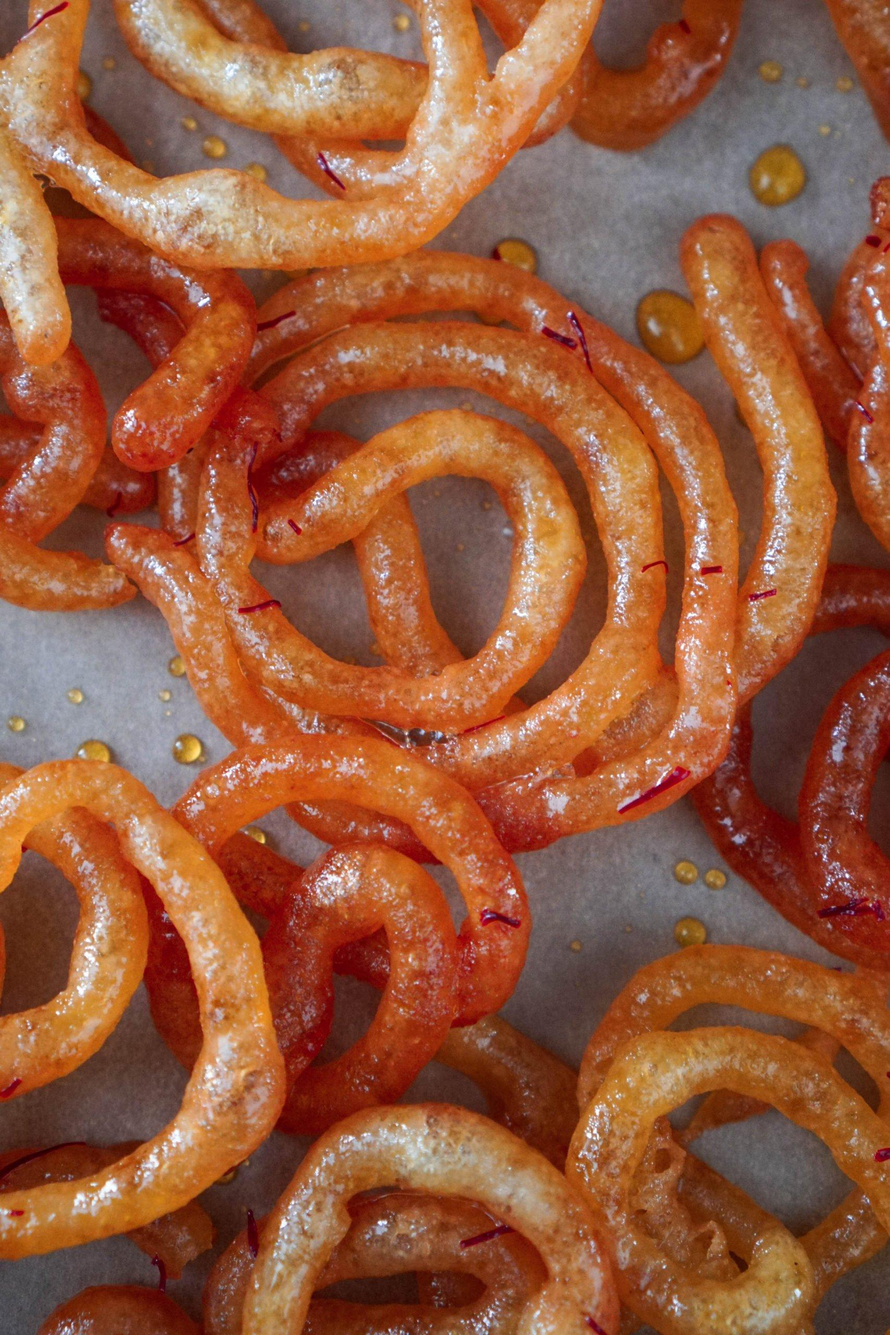jalebi: (10, 23, 881, 1313)
